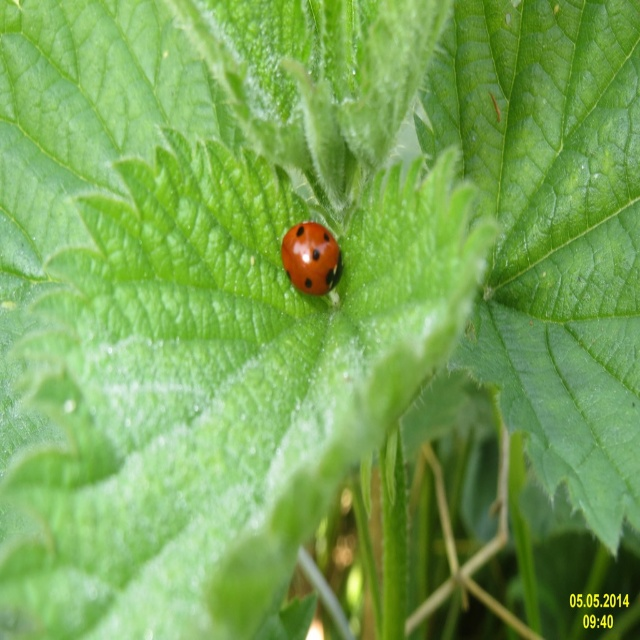Ladybug: (280, 219, 342, 298)
